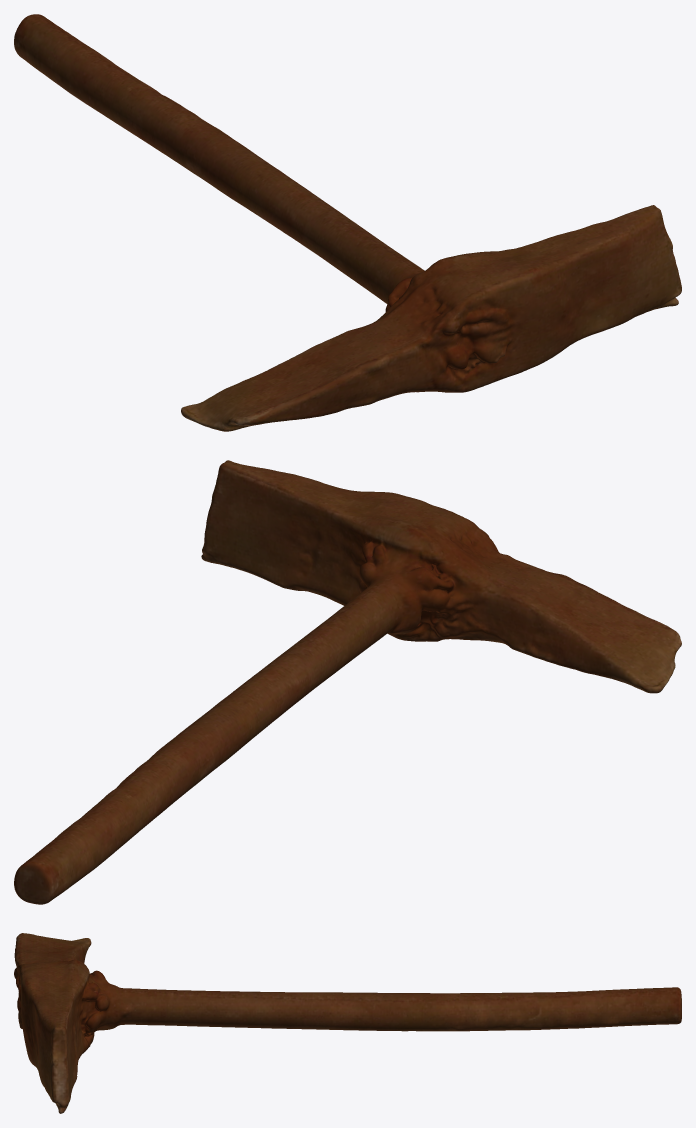
File: budak.glb
3 views of the same model, one above another, from view 1: azimuth 30°, elevation 25°; view 2: azimuth 150°, elevation 25°; view 3: azimuth 270°, elevation 25° (orthographic). The views are drawn at different scales.
Bounding box in the file's own units: 1.19 × 0.2876 × 1.9.
1 material, 1 textured.
